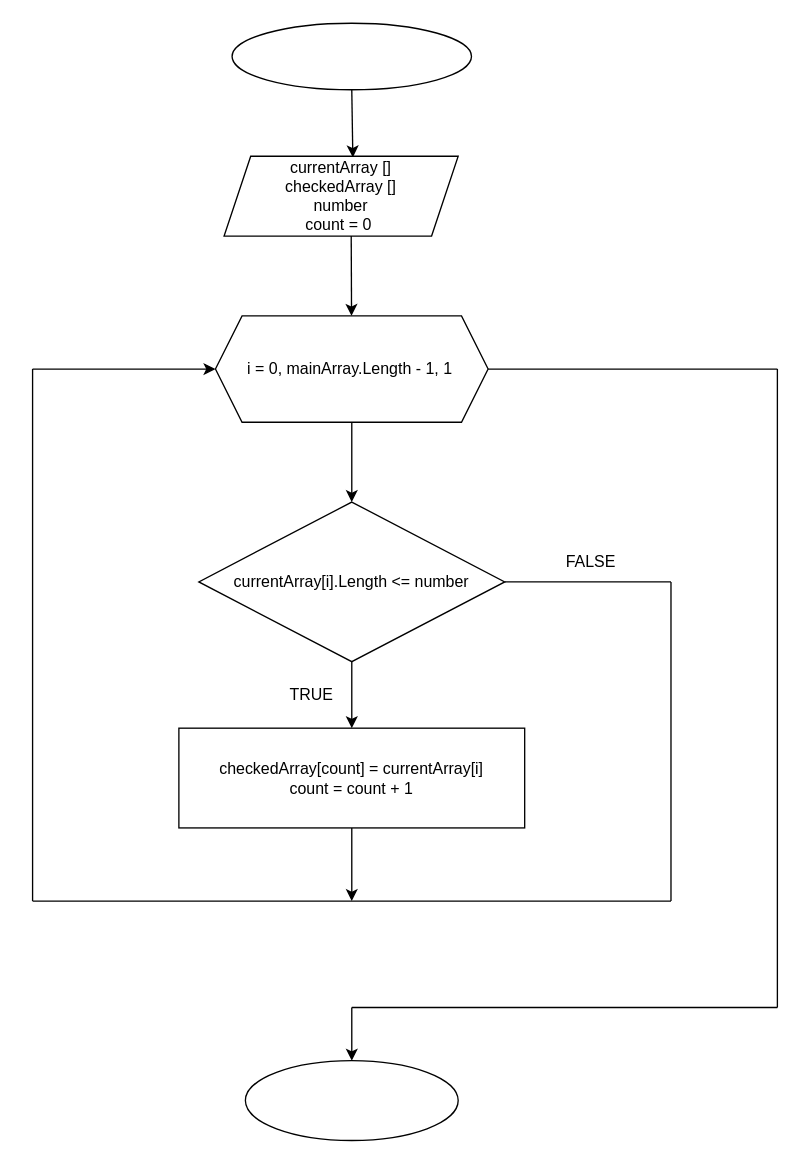
This 802x1164 diagram has some shape labels left out. The centre of each missing label's shape, as x and y in pixels:
"END" goes at pixel 351 1099.
"START" goes at pixel 351 56.
